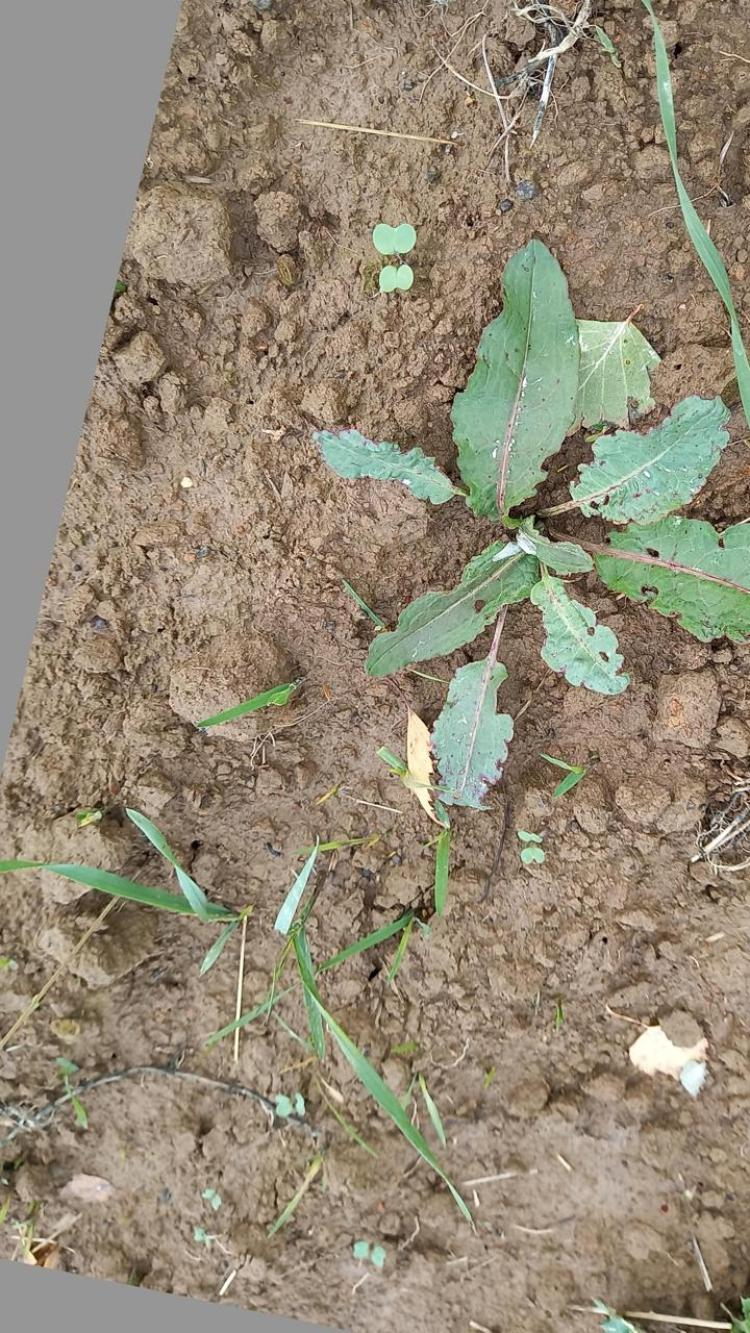zhavel: (310, 237, 750, 804)
